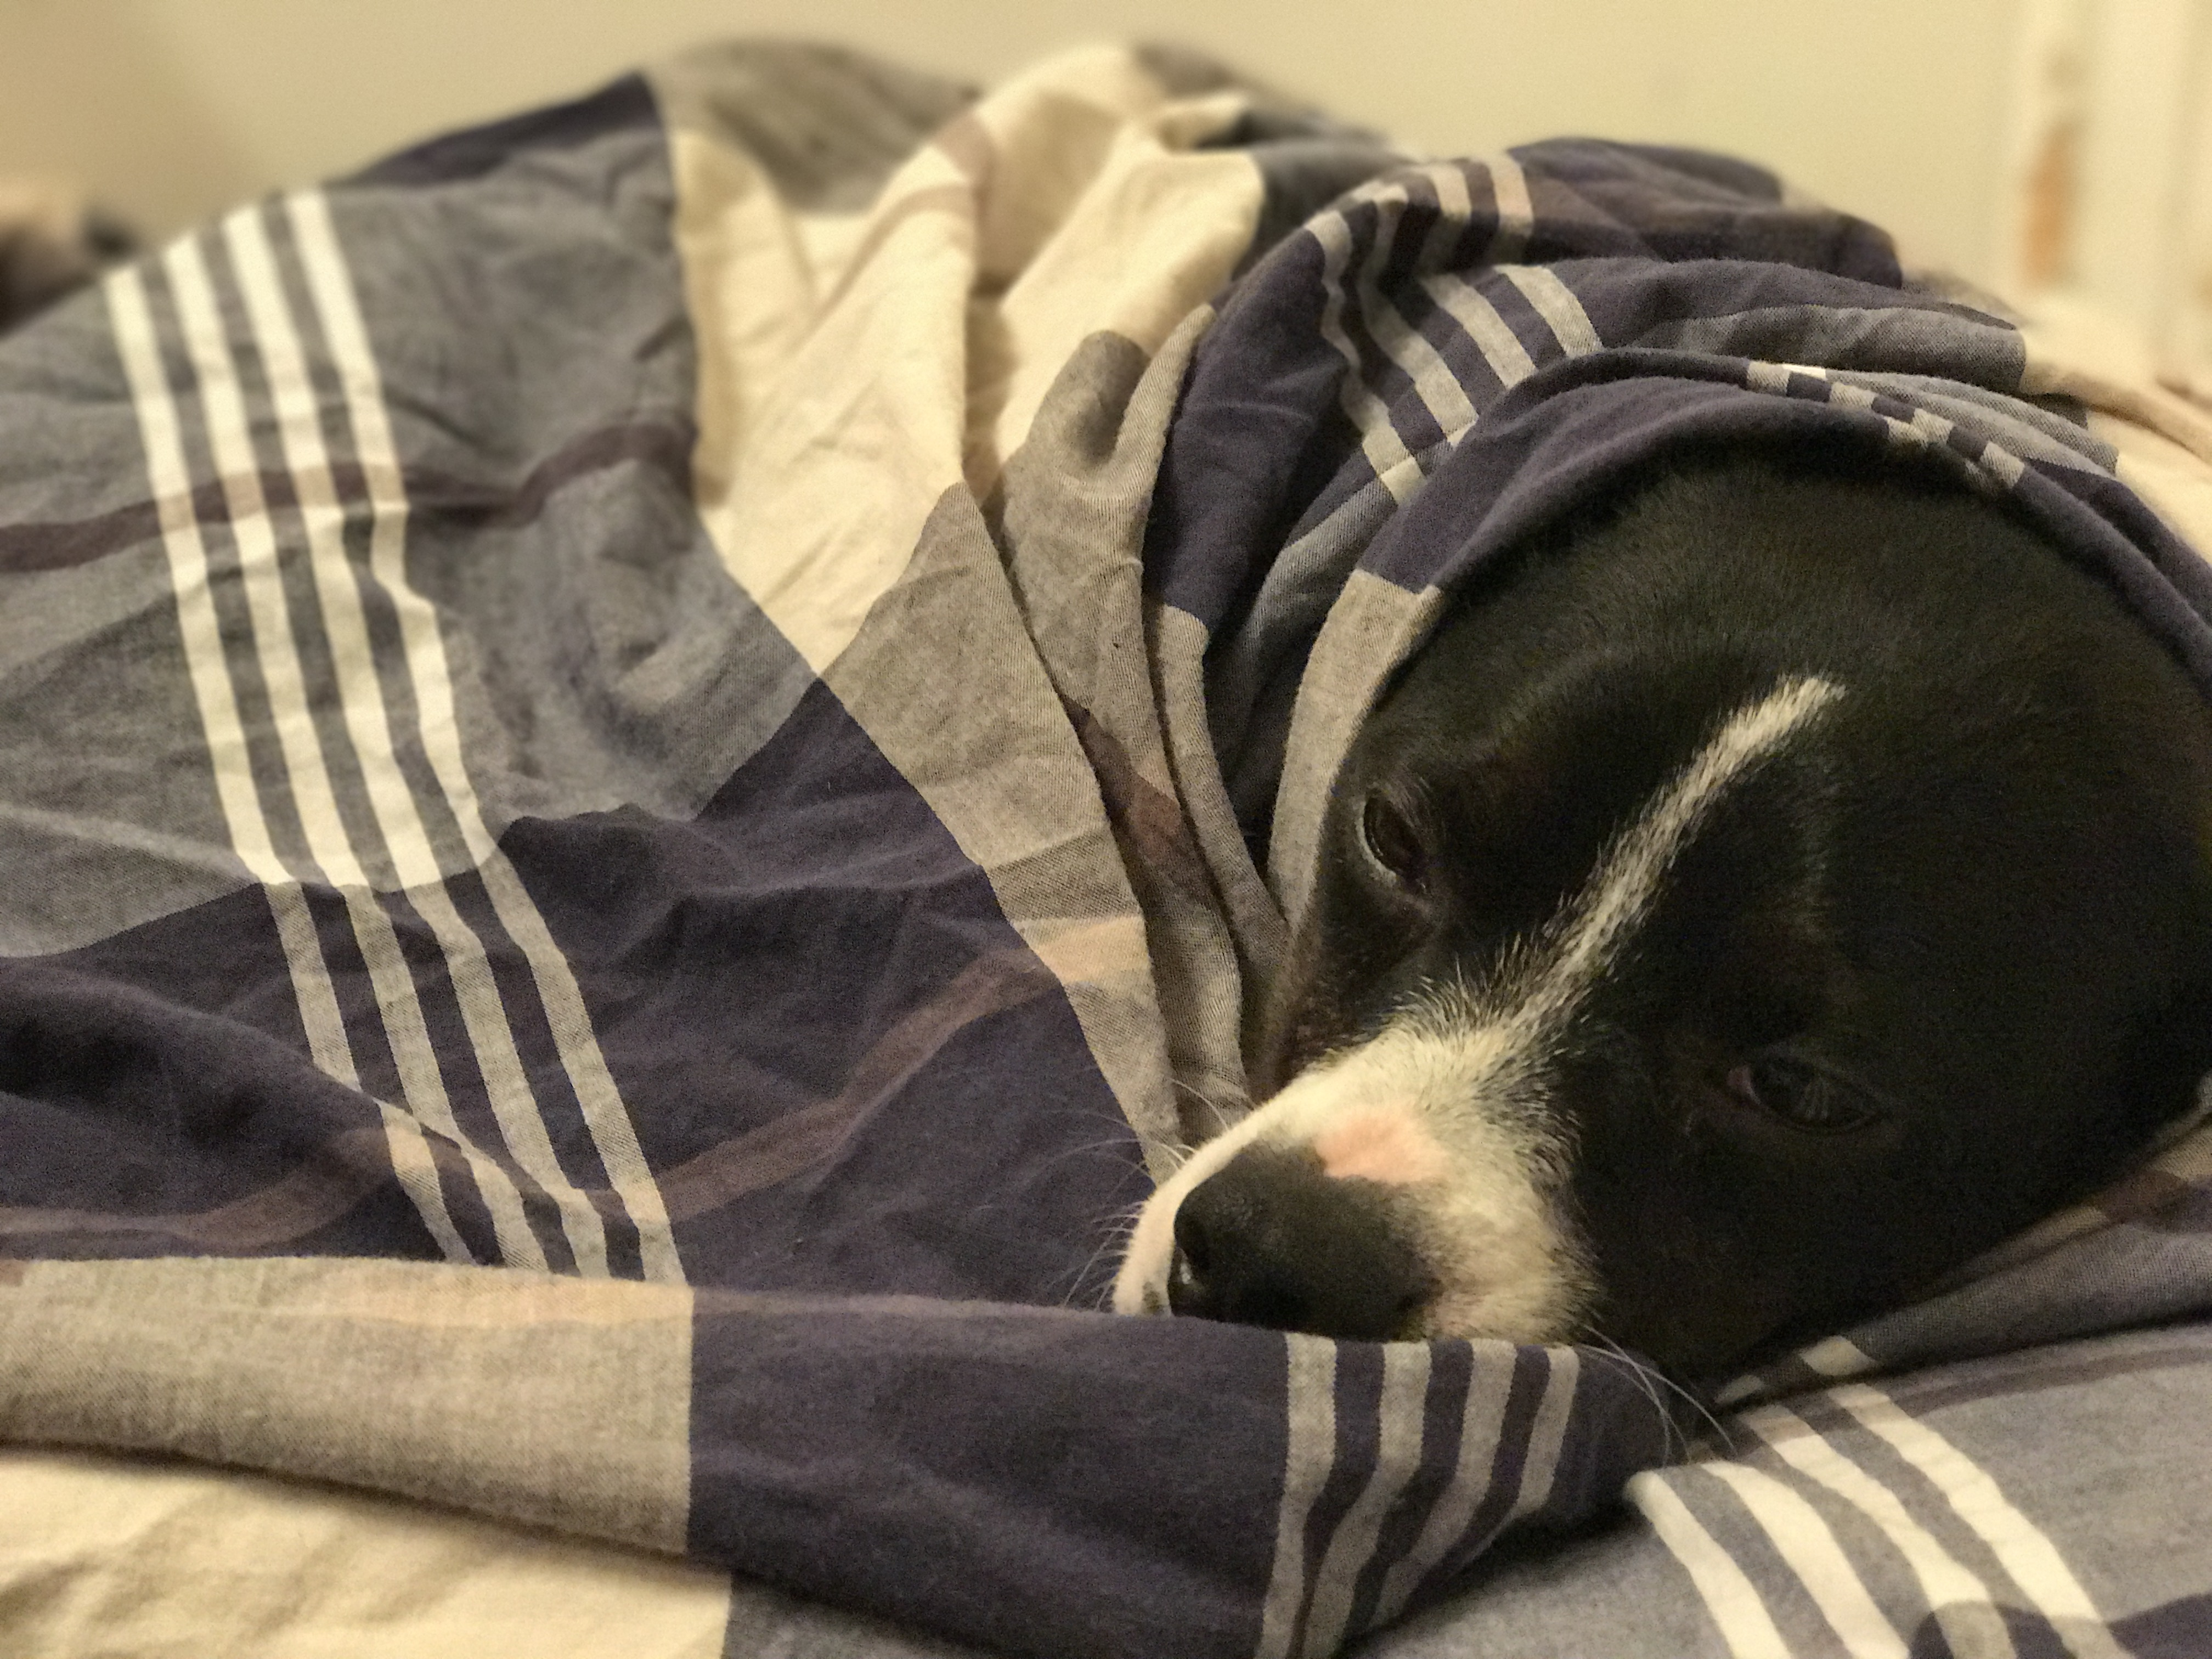Harley: (1099, 439, 2212, 1387)
